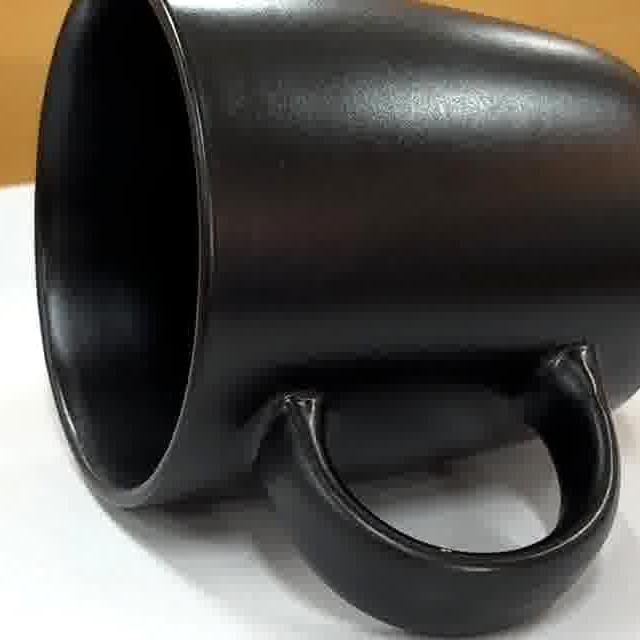cup: (36, 0, 640, 639)
